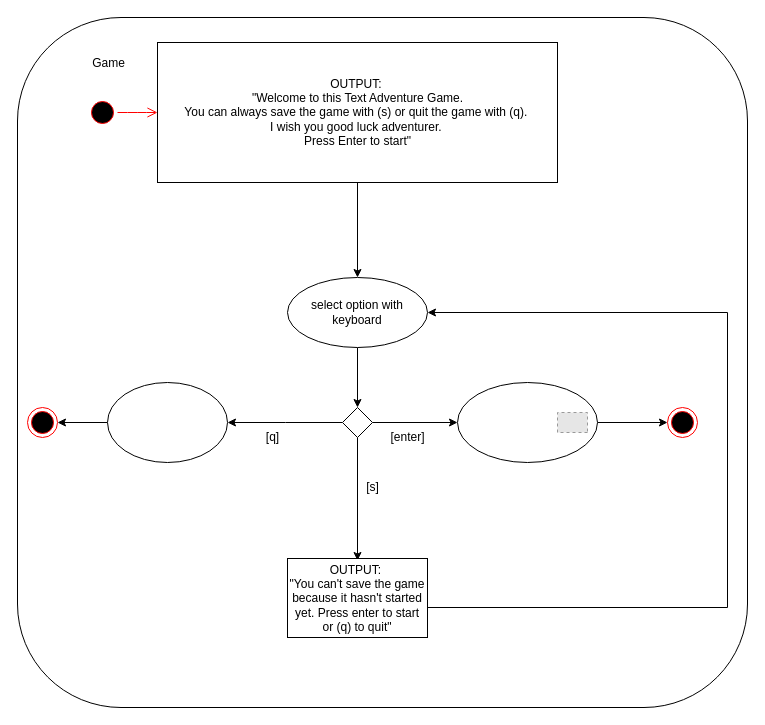
Some shapes in this 765 by 725 pixel diagram are drawn without their labels. Grey dashed boxes stand in for pictures. Each missing label, with the box of its shape:
play Game: (456, 382, 598, 462)
quit Game: (106, 382, 228, 462)
